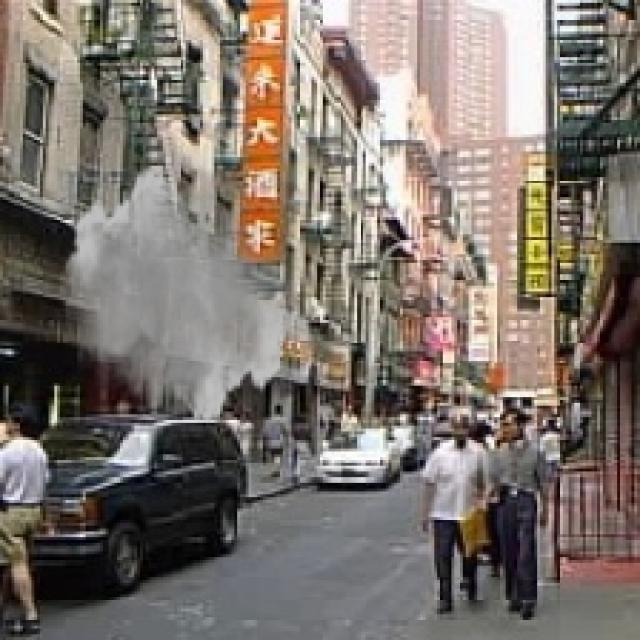smoke: (60, 166, 297, 426)
